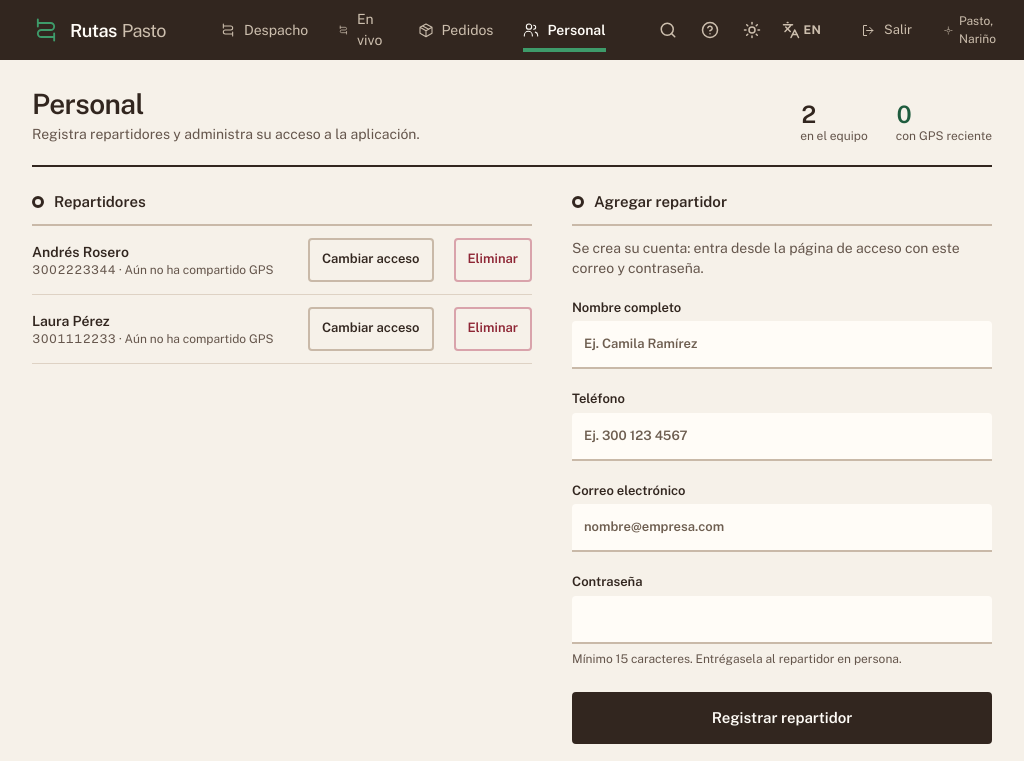
Test: lista el equipo y registra un repartidor con su cuenta
Expected: the text "Laura Pérez" is shown, [32,313,110,329]
Type "Camila Ramírez" into the field labelled "Nombre completo".
click(782, 345); type("Camila Ramírez")  # box [572,321,992,369]
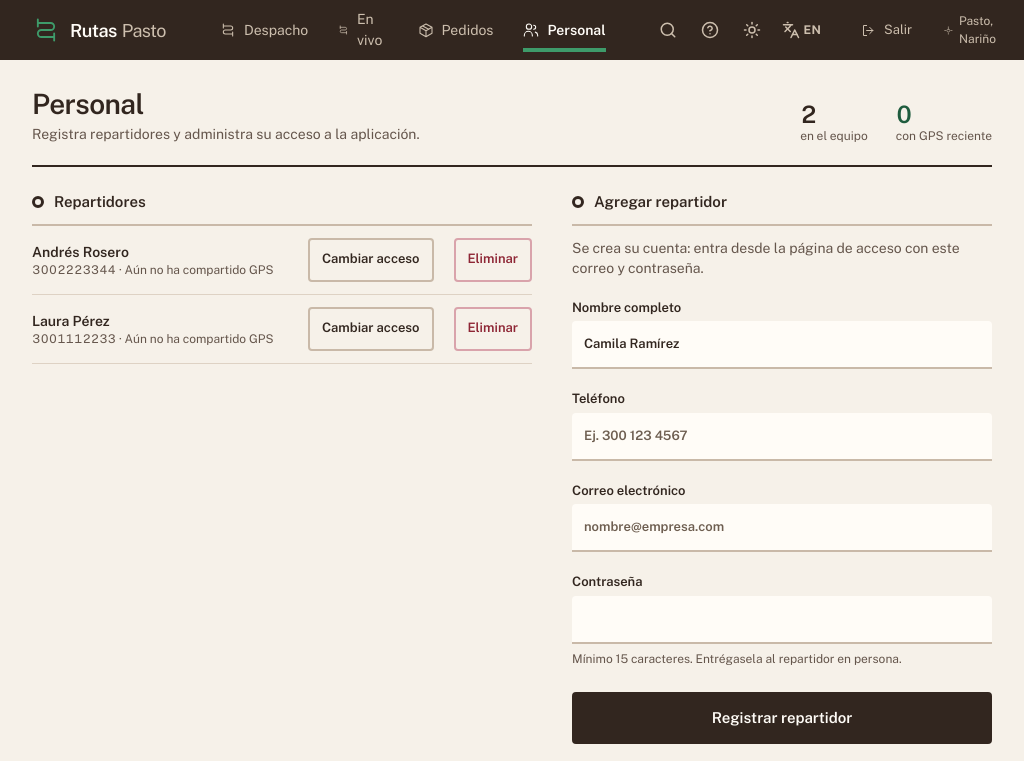
Type "300 123 4567" into the field labelled "Teléfono".
click(782, 437); type("300 123 4567")  # box [572,413,992,461]
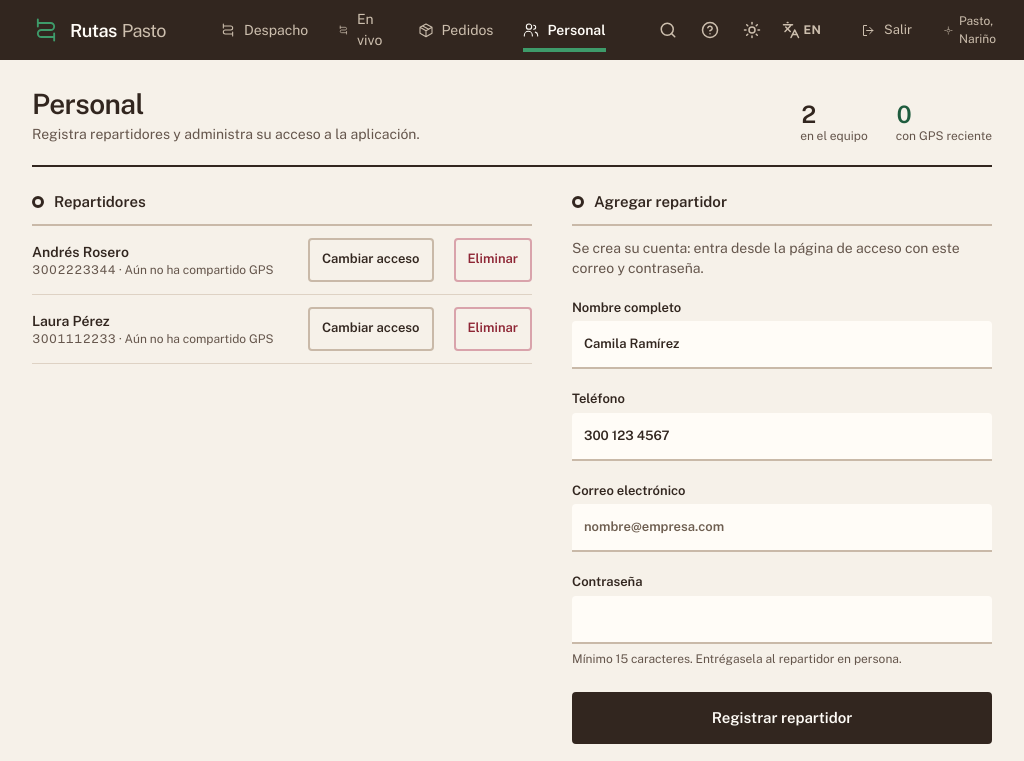
Type "Camila@Empresa.com" into the field labelled "Correo electrónico".
click(782, 528); type("Camila@Empresa.com")  # box [572,504,992,552]
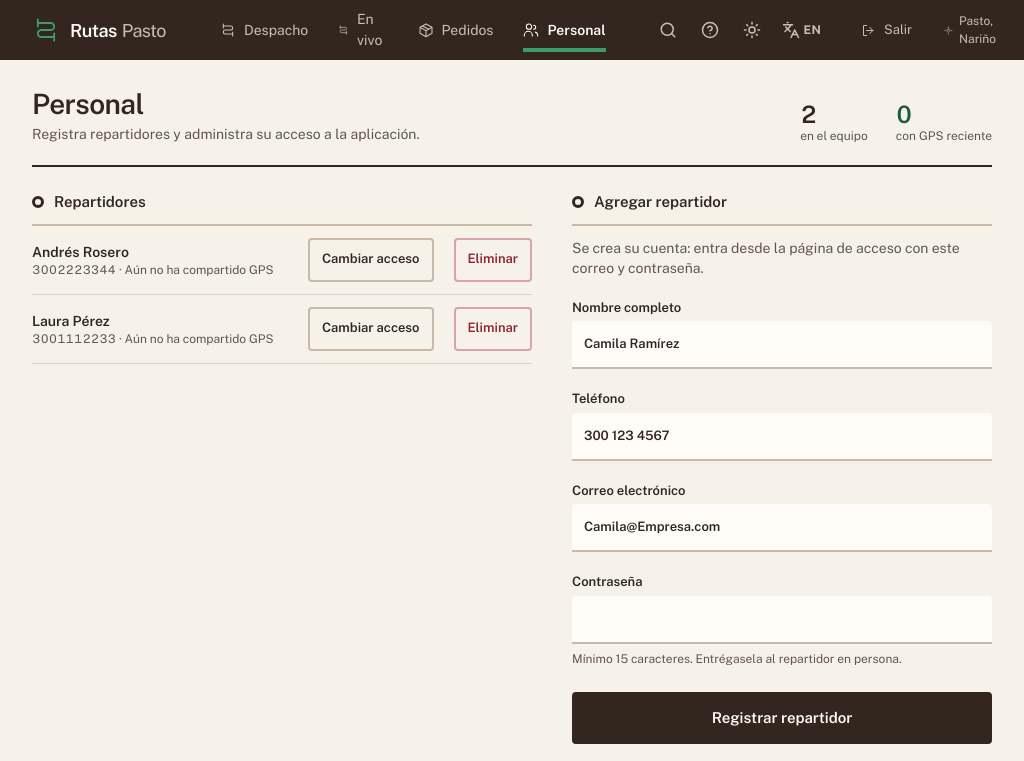
Type "una-clave-larga-segura" into the password field labelled "Contraseña".
click(782, 620); type("una-clave-larga-segura")  # box [572,596,992,644]
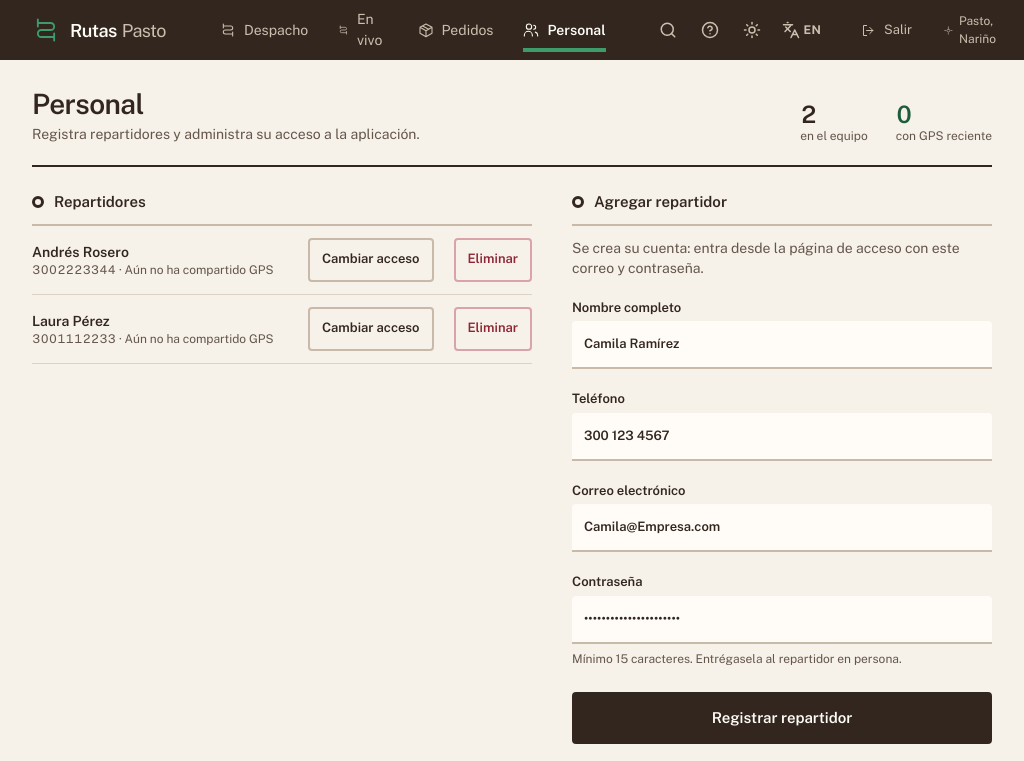
Click the button "Registrar repartidor".
click(782, 718)  # box [572,692,992,744]
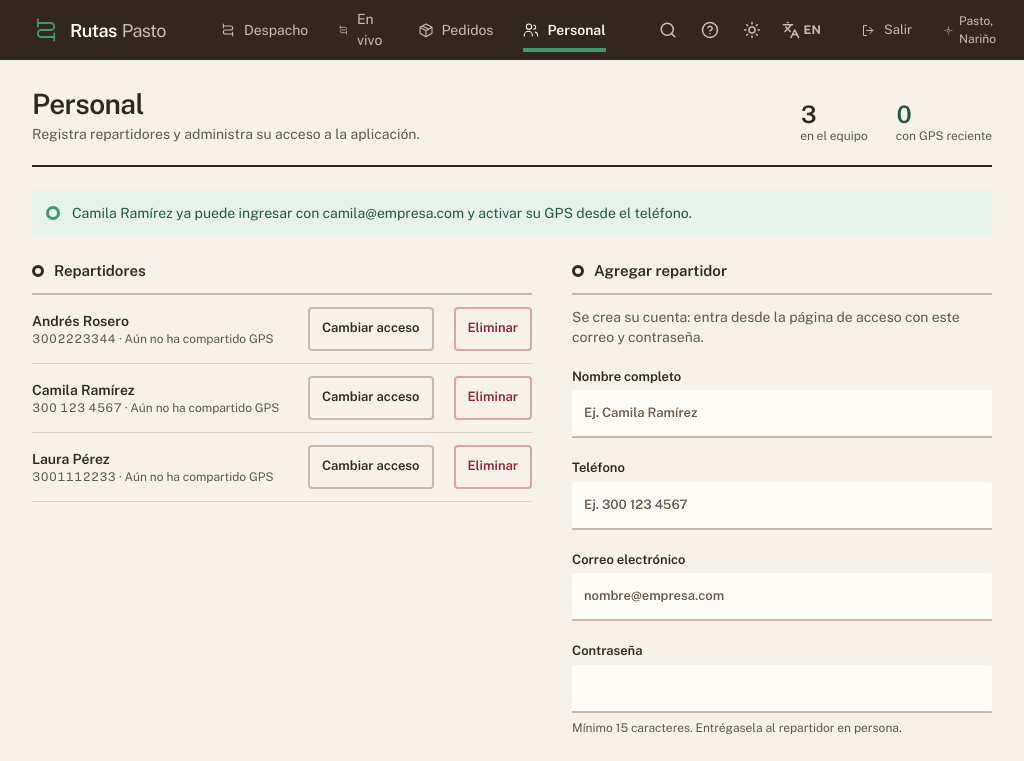
Result: the message shows "Camila Ramírez ya puede ingresar" at [72,205,692,221]
Result: the text "Camila Ramírez" is shown at [32,382,135,398]
